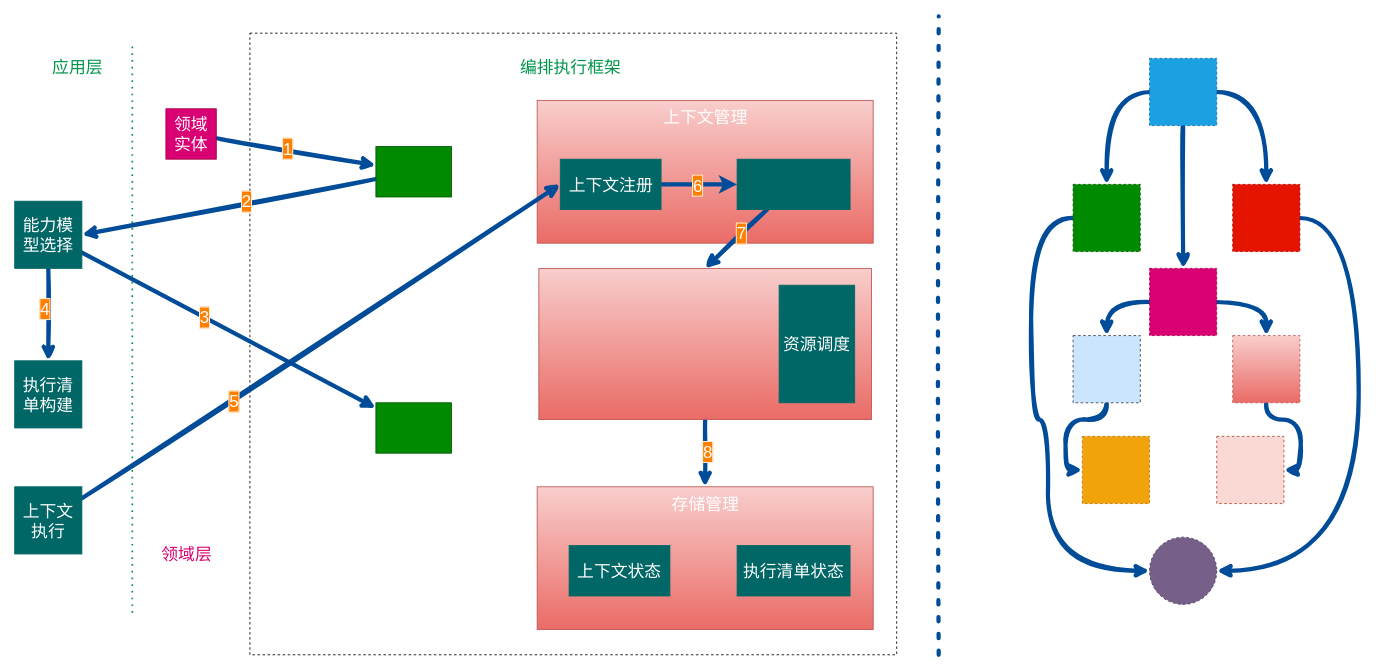
Image size: 1376x672. Some labels were removed from this diagram. The shapes that lost their labels are listed below. From the top down, each one's box as (x1, y1, x2, y2) in pixels, then its label:
(375, 146, 452, 197): 业务能力模型
(736, 158, 850, 210): 执行清单编排
(538, 268, 872, 420): 执行容器
(375, 402, 452, 453): 事务能力模型
